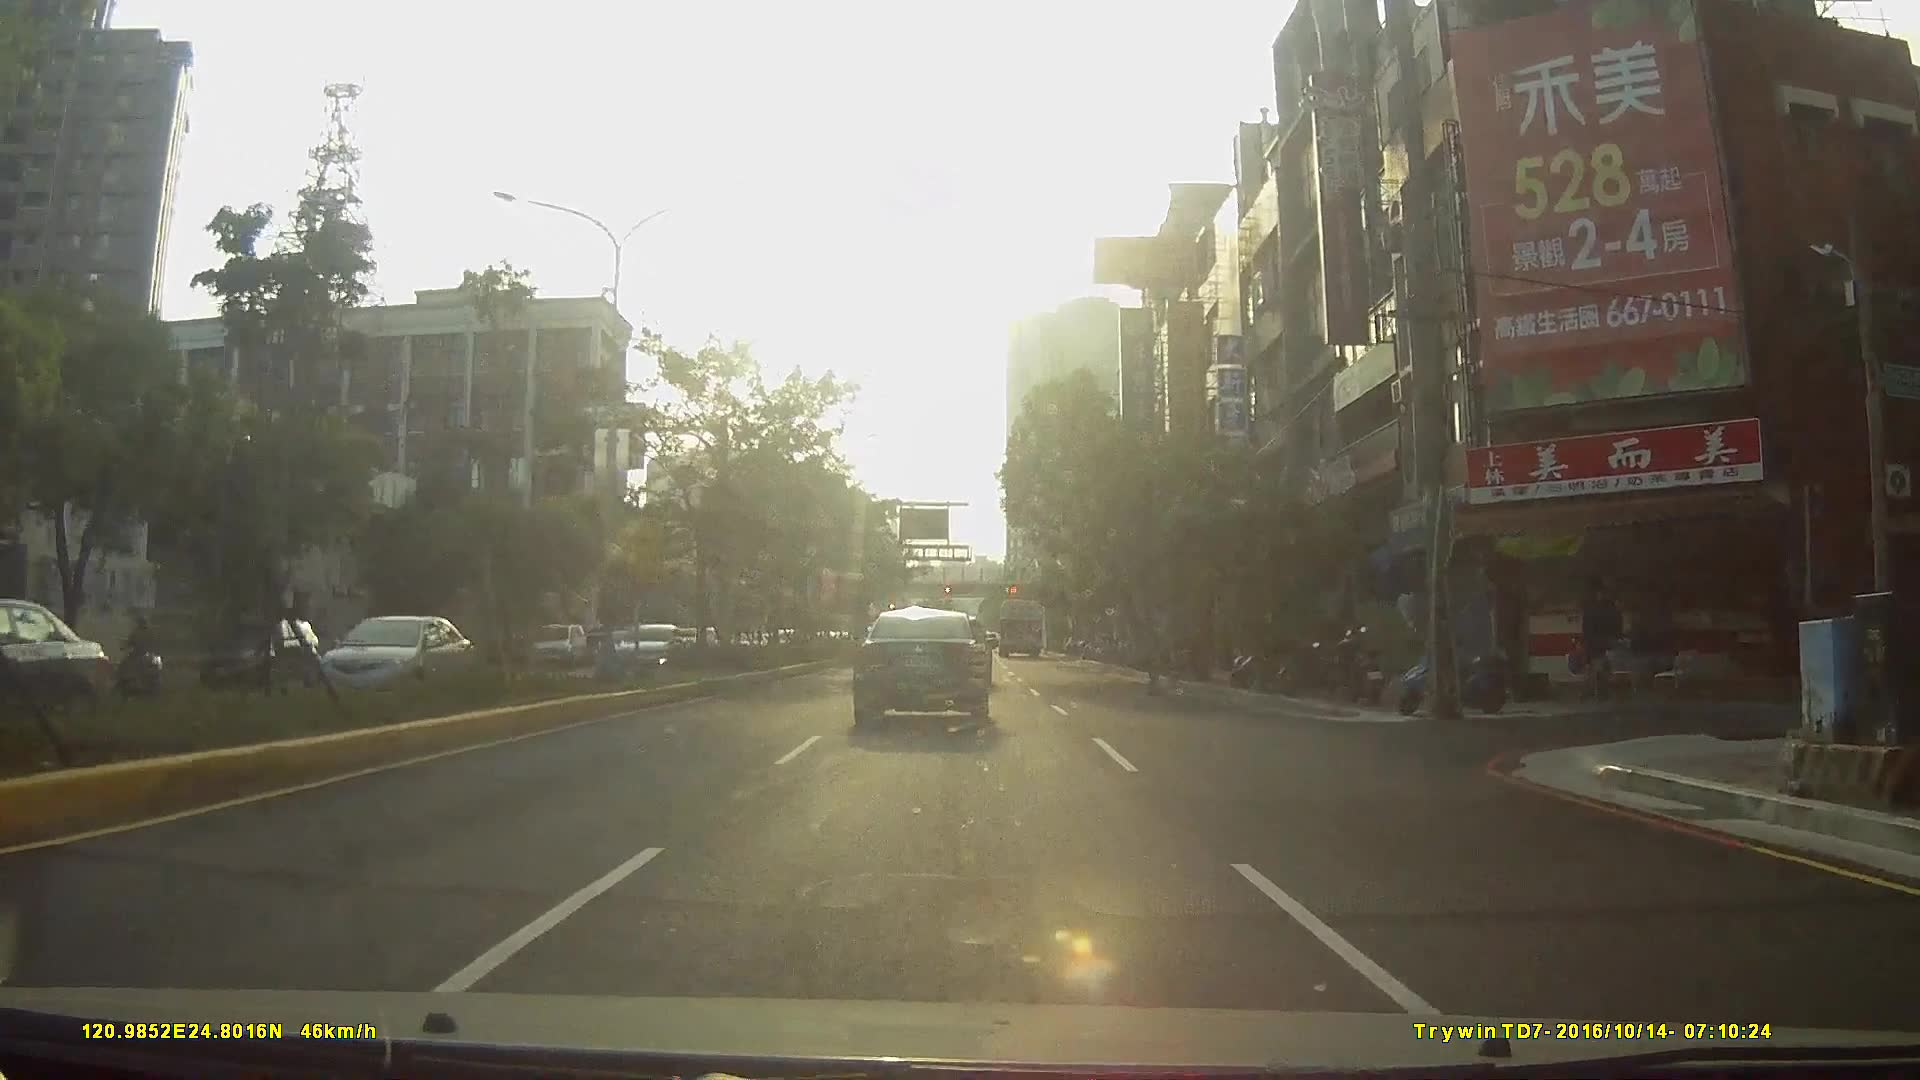pedestrian: (1140, 611, 1178, 695)
rider: (113, 614, 170, 704)
vehicle: (303, 602, 485, 729), (850, 606, 993, 730), (1, 603, 122, 725), (191, 616, 316, 690), (1, 618, 82, 705), (601, 618, 695, 677), (995, 595, 1043, 657), (526, 620, 586, 665)
